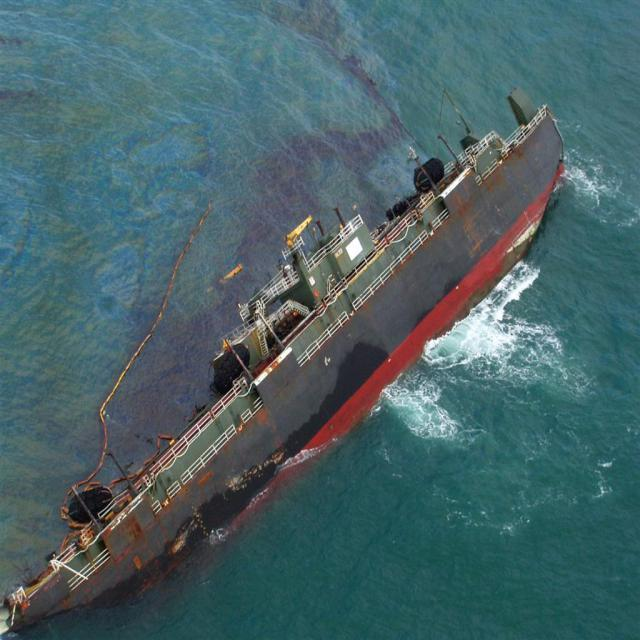truecolor: (202, 1, 419, 360), (109, 373, 209, 440)
